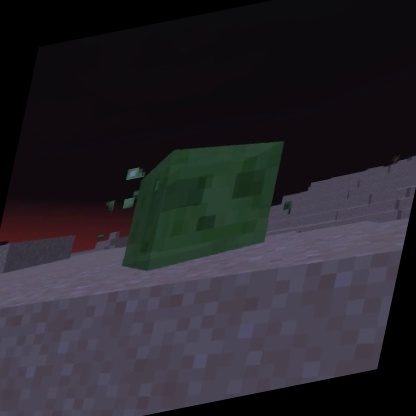slime: (112, 121, 296, 282)
